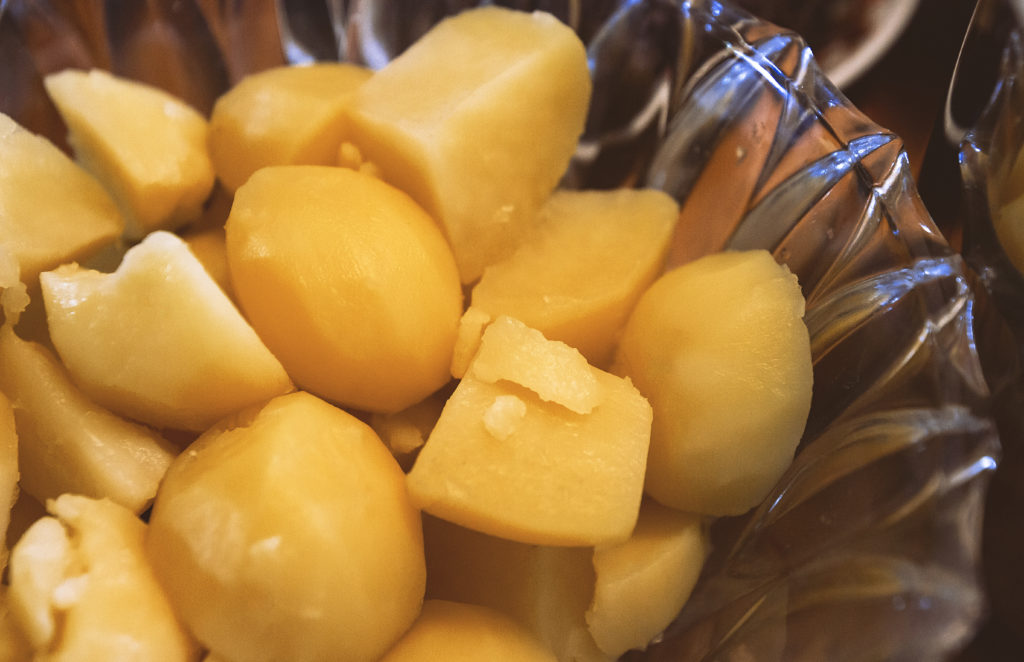boiled potatoes: (1, 42, 807, 660)
